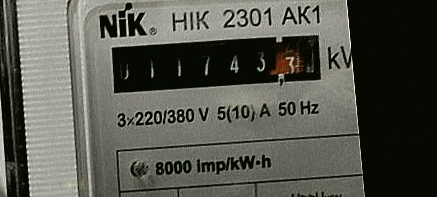0: (114, 54, 131, 82)
1: (141, 51, 158, 80), (169, 50, 185, 79)
3: (250, 46, 267, 74), (280, 54, 297, 76)
4: (224, 50, 241, 76)
7: (196, 50, 213, 76)
screen: (100, 22, 331, 106)
